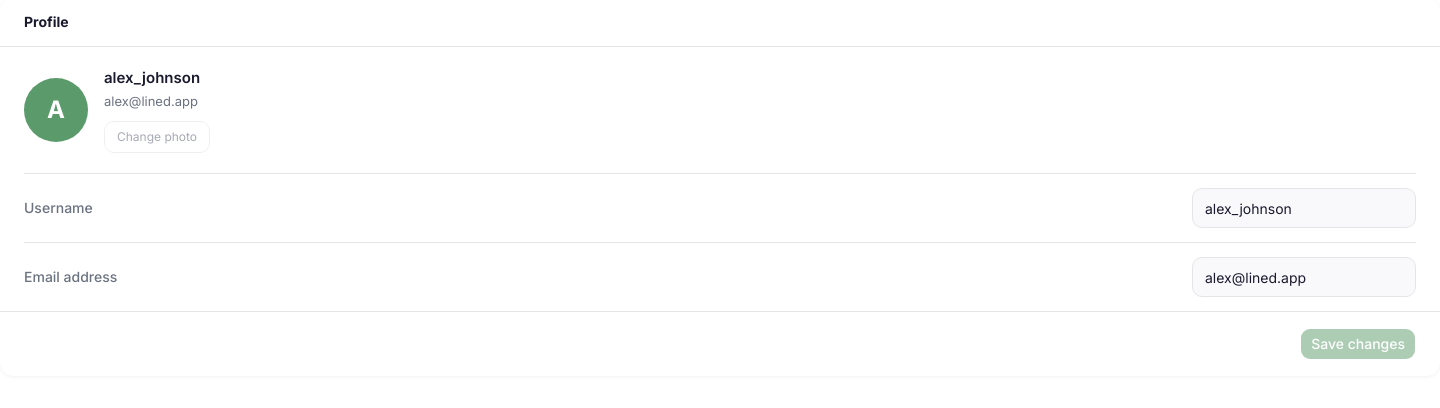
Test case: ProfileCard › shows a generic error on 500
The image size is (1440, 408).
Type "x" into the field named "Username" at (1304, 208), box top-left (1192, 188), bottom-right (1416, 228)
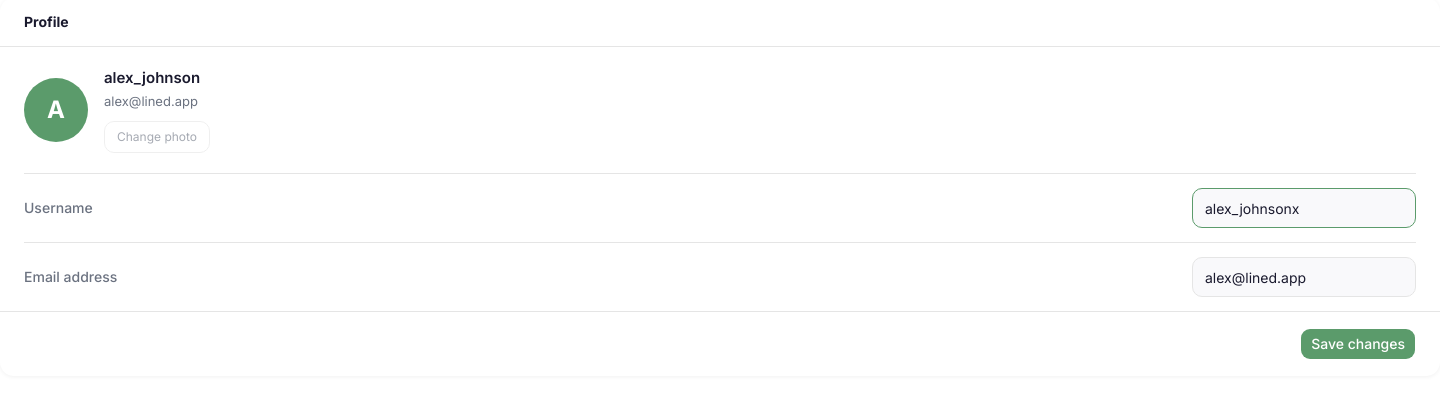
Click the button "Save changes" at (1358, 344), box top-left (1300, 328), bottom-right (1416, 360)
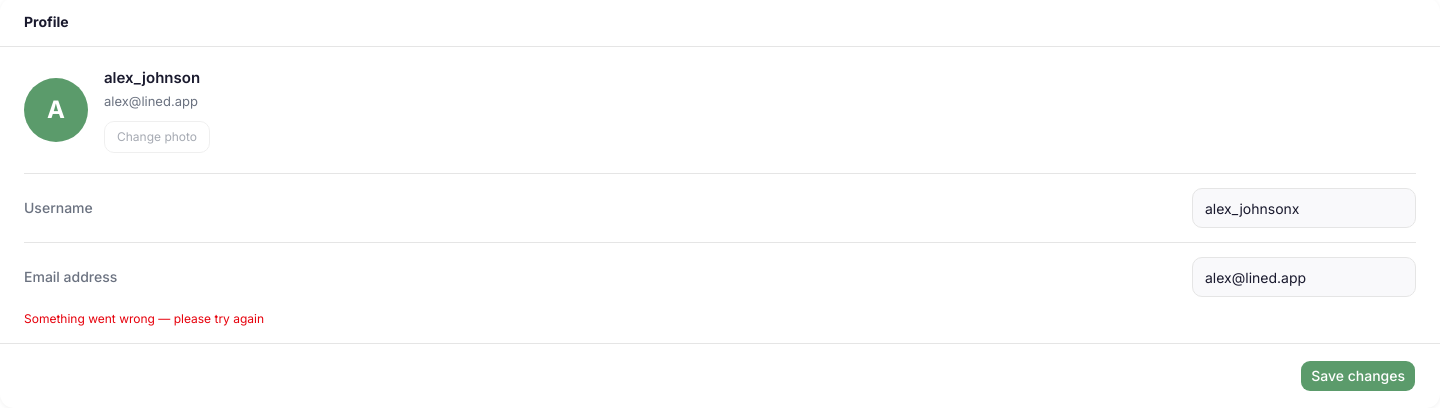
Expected: the message reads "Something went wrong — please try again", top-left (24, 311), bottom-right (264, 326)
